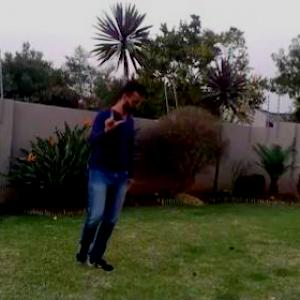land_hand: (98, 103, 126, 132)
